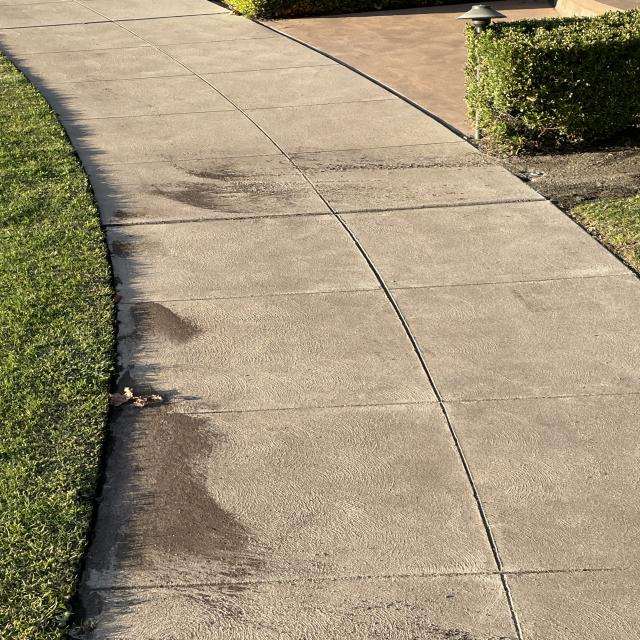walkway: (108, 469, 631, 639), (120, 322, 632, 480), (95, 176, 511, 360), (167, 84, 386, 261), (82, 58, 336, 192), (4, 2, 201, 71)
walkway-edge: (74, 146, 152, 414), (508, 142, 636, 296), (2, 19, 96, 202), (70, 397, 126, 636)
